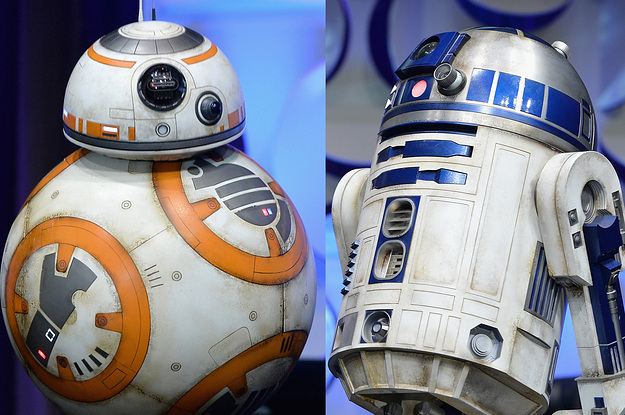r2d2: (335, 27, 625, 414)
